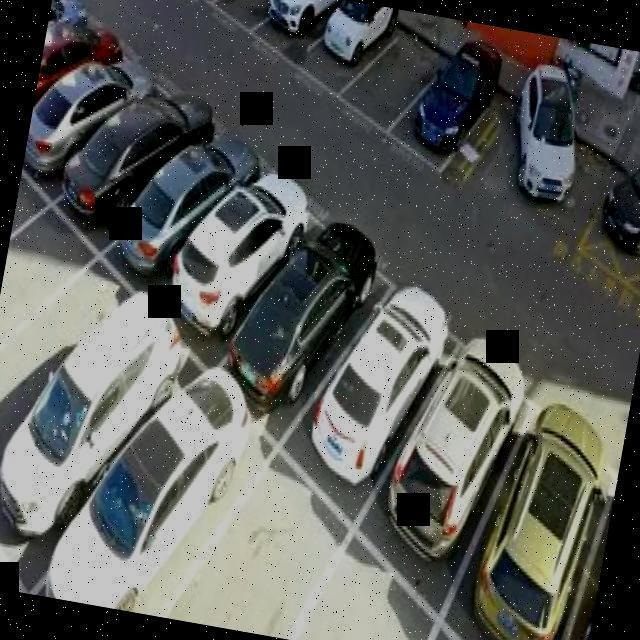space-empty: (139, 430, 366, 640), (0, 230, 147, 514), (0, 172, 110, 399), (338, 10, 451, 132), (207, 0, 284, 40)
space-occupied: (19, 357, 287, 632), (0, 287, 199, 581), (339, 319, 542, 598), (267, 269, 454, 534), (430, 399, 626, 640), (210, 203, 394, 438), (148, 145, 323, 365), (95, 97, 270, 304), (51, 71, 212, 256), (19, 29, 151, 206), (392, 35, 502, 172), (294, 0, 396, 101), (561, 488, 615, 640), (250, 0, 349, 69)
